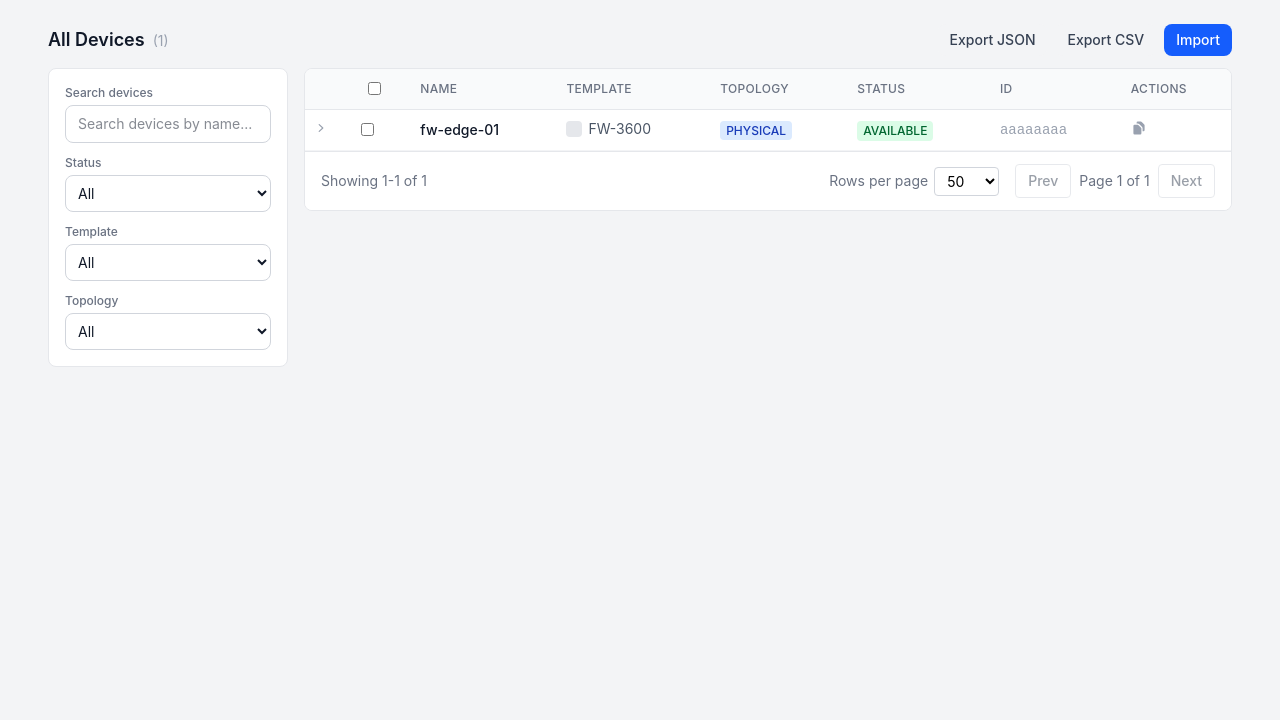
Test: InventoryPage › expanded ports row › shows a loading message while ports and connections are pending
This screenshot has width=1280, height=720.
Expected: the text "fw-edge-01" is shown, [404,110,550,150]
Click the button named "Expand ports".
click(321, 128)  # box [313,120,329,136]
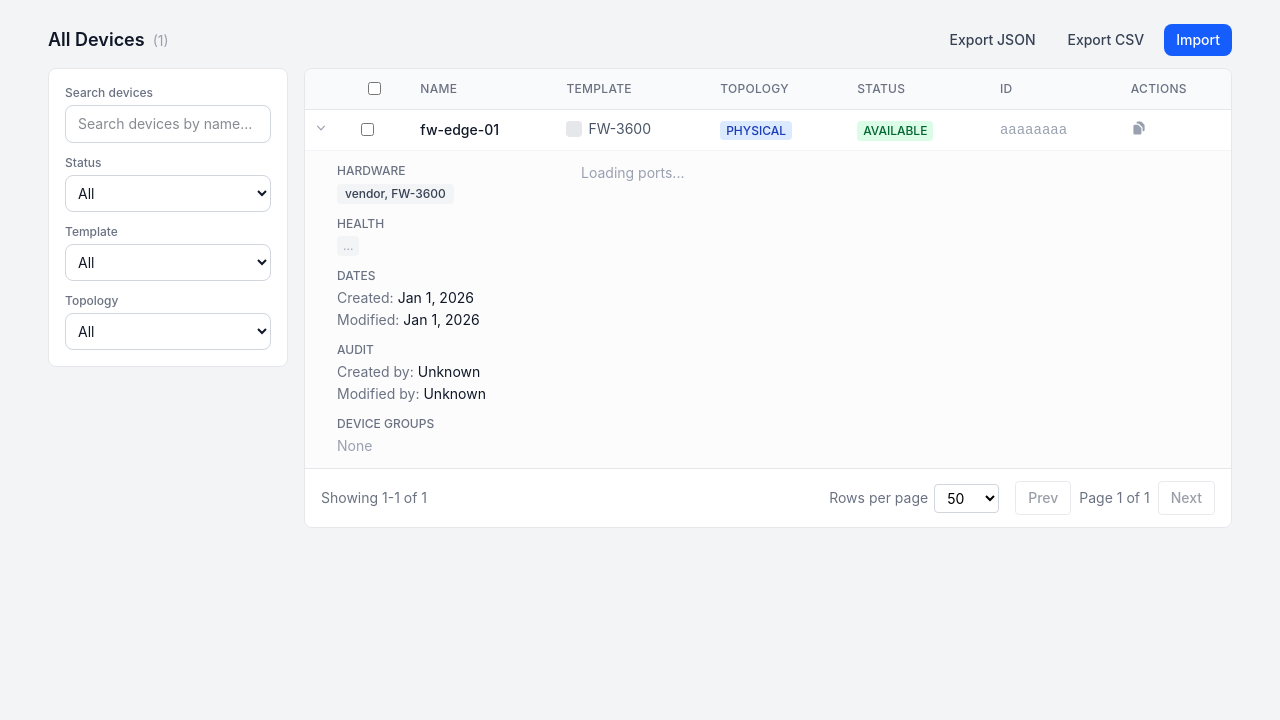
Expected: the text "Loading ports..." is shown, [581,164,684,181]
